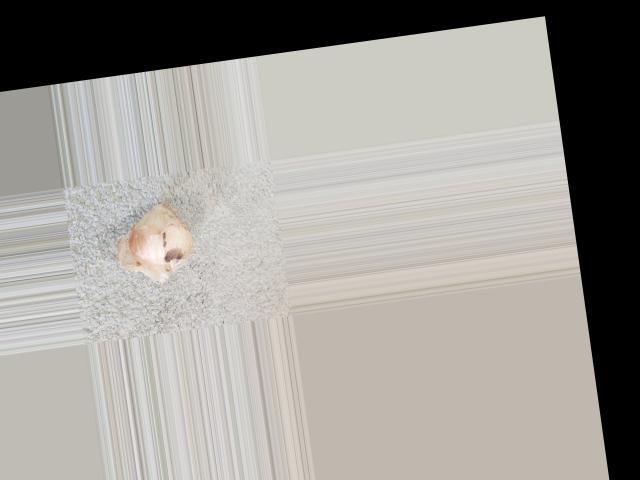onion: (124, 201, 198, 276)
